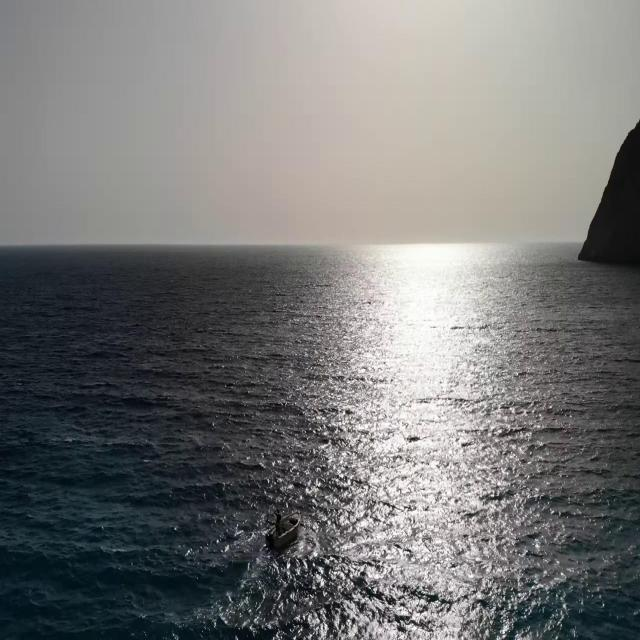boat: (263, 501, 301, 548)
